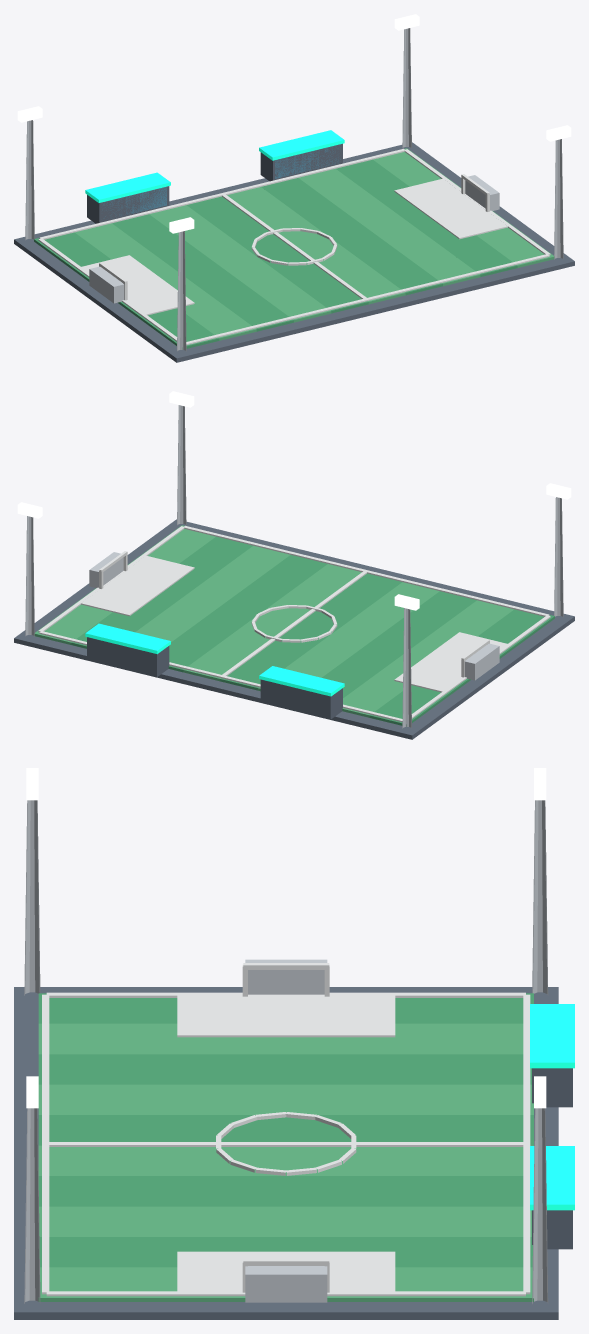
File: first_team_pitch_alpha.glb
3 renders of one model, top to bottom at view 1: azimuth 30°, elevation 25°; view 2: azimuth 150°, elevation 25°; view 3: azimuth 270°, elevation 25°, orthographic. The views are drawn at different scales.
Visible parts, largest first — view 1: first_team_pitch_alpha; view 2: first_team_pitch_alpha; view 3: first_team_pitch_alpha.
Boxes of the visible parts, x1,y1,x2,y2 form: first_team_pitch_alpha: (14, 14, 574, 362); first_team_pitch_alpha: (14, 391, 574, 739); first_team_pitch_alpha: (14, 768, 574, 1319).
Bounding box in the file's own units: 3.76 × 1.22 × 2.74.
